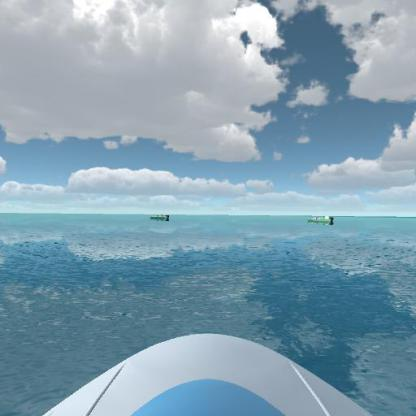usv0: (306, 212, 335, 227), (150, 211, 171, 223)
